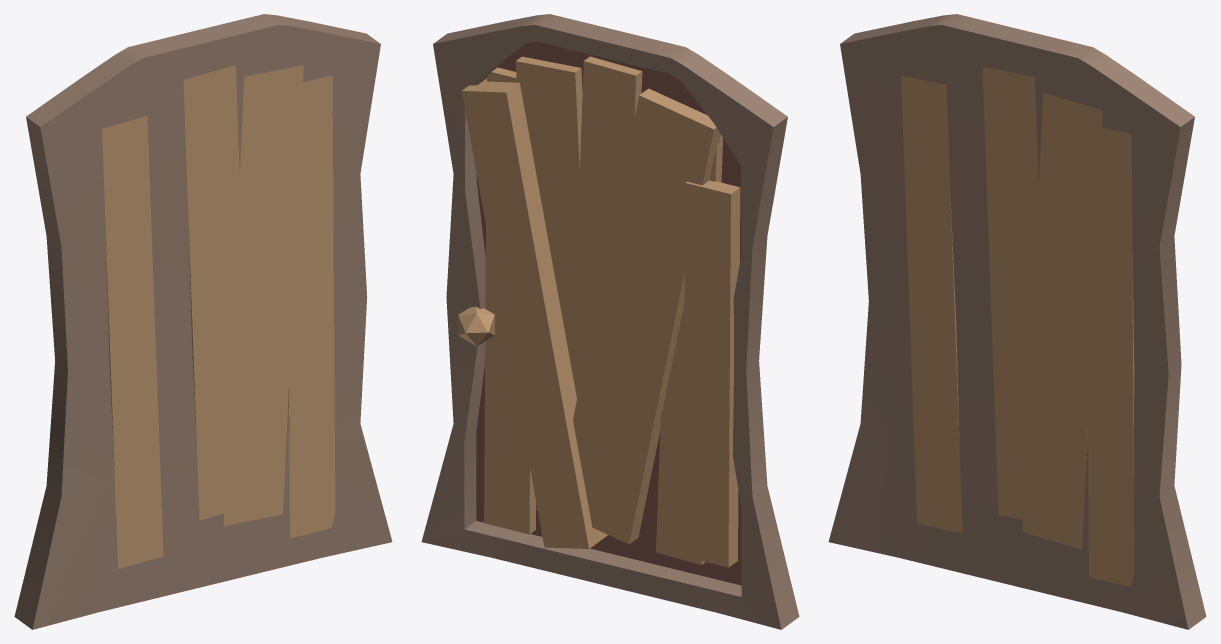
Rendered from Door.fbx.
The picture shows the model from 3 angles, left to right: view 1: azimuth 30°, elevation 25°; view 2: azimuth 150°, elevation 25°; view 3: azimuth 330°, elevation 25°; orthographic projection.
Visible parts, largest first — view 1: door1, wood_door2, wood_door1, wood_door4, wood_door5; view 2: door1, wood_door3, wood_door, wood_door6, wood_door1, wood_door2, wood_door5, wood_door4, knob; view 3: door1, wood_door1, wood_door5, wood_door4, wood_door2.
Part boxes in pixels (bbox=[...]): door1: bbox=[14, 14, 392, 629]; wood_door2: bbox=[183, 65, 251, 520]; wood_door1: bbox=[223, 65, 303, 525]; wood_door4: bbox=[102, 116, 163, 569]; wood_door5: bbox=[287, 75, 335, 538]; door1: bbox=[421, 14, 799, 629]; wood_door3: bbox=[573, 88, 720, 543]; wood_door: bbox=[461, 78, 607, 548]; wood_door6: bbox=[683, 180, 740, 567]; wood_door1: bbox=[515, 56, 587, 510]; wood_door2: bbox=[572, 56, 642, 398]; wood_door5: bbox=[484, 67, 535, 534]; wood_door4: bbox=[656, 135, 722, 564]; knob: bbox=[458, 306, 494, 346]; door1: bbox=[828, 14, 1206, 629]; wood_door1: bbox=[1022, 93, 1102, 549]; wood_door5: bbox=[1086, 124, 1134, 586]; wood_door4: bbox=[901, 75, 962, 533]; wood_door2: bbox=[982, 66, 1041, 519].
Size of the model in its own units: 264 by 381 by 35.6.
